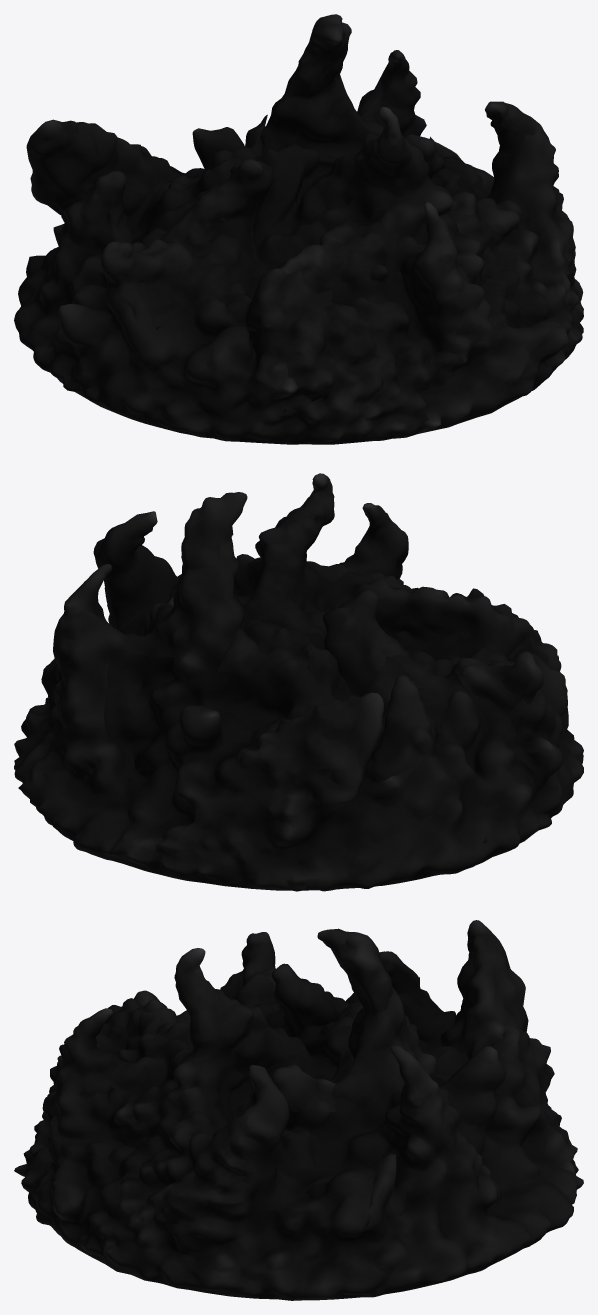
The model's file is MZ4250 - Black Pudding_split 2025.glb.
The picture shows the model from 3 angles, top to bottom: view 1: azimuth 30°, elevation 25°; view 2: azimuth 150°, elevation 25°; view 3: azimuth 270°, elevation 25°; orthographic projection.
Parts seen in each view (by area): view 1: Black Pudding.002; view 2: Black Pudding.002; view 3: Black Pudding.002.
Boxes of the visible parts, x1=… form: Black Pudding.002: x1=14, y1=14, x2=583, y2=444; Black Pudding.002: x1=14, y1=473, x2=583, y2=891; Black Pudding.002: x1=14, y1=920, x2=583, y2=1300.
Bounding box in the file's own units: 63.96 × 34.97 × 63.92.
Materials: 1 (1 with a texture image).
